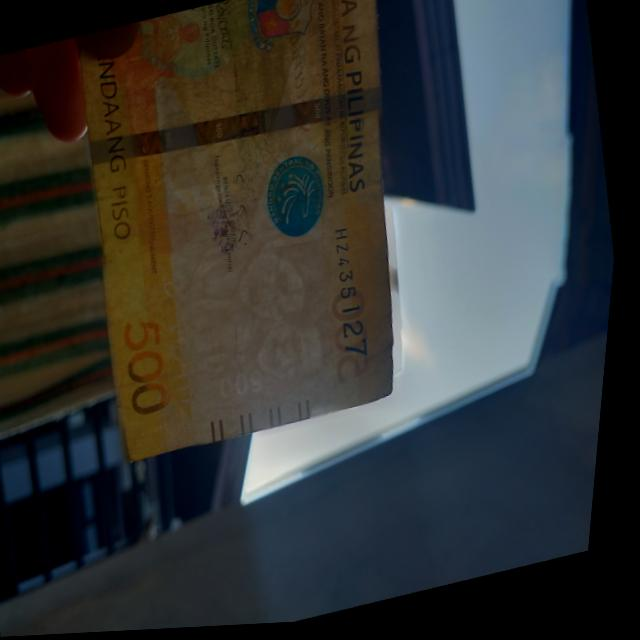security_thread: (87, 72, 389, 181)
see_through_mark: (142, 251, 223, 419)
value_watermark: (213, 355, 285, 414)
watermark: (163, 212, 364, 426)
